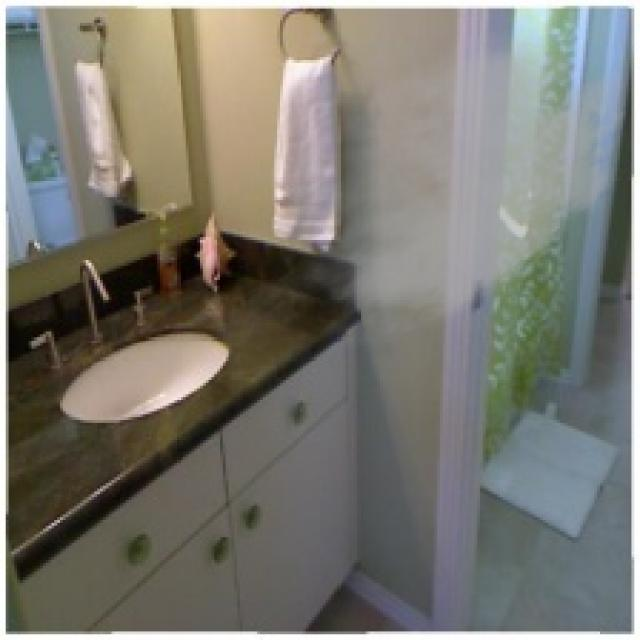smoke: (249, 14, 637, 360)
